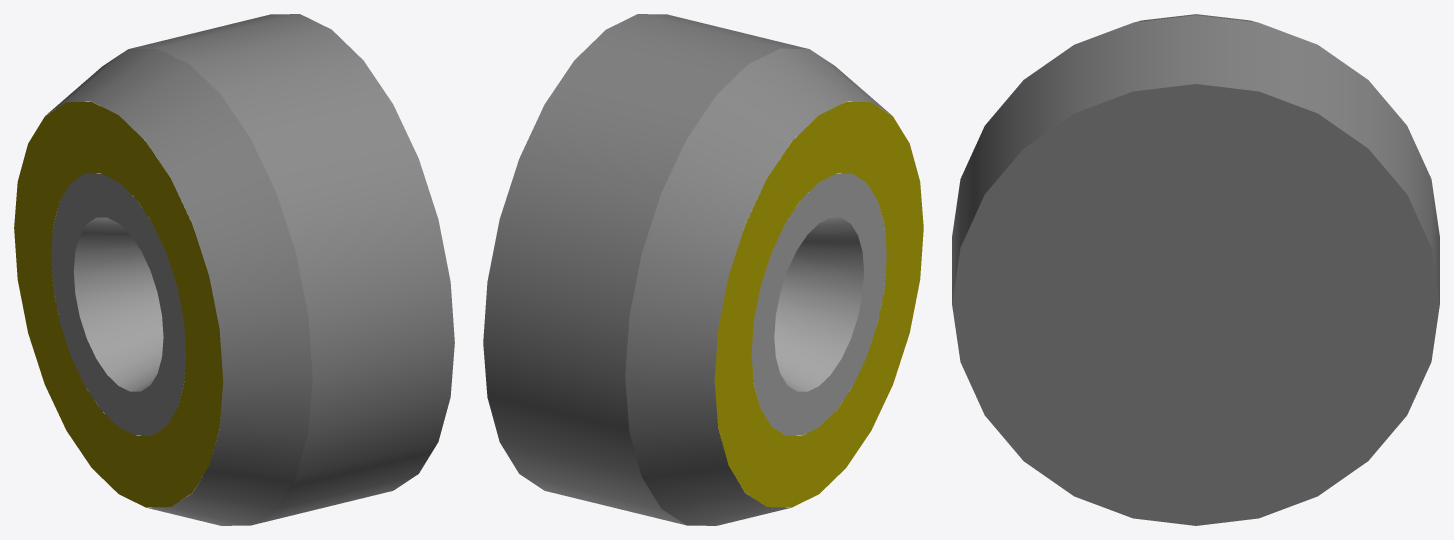
The model's file is Wheel.glb.
3 views of the same model, side by side, from view 1: azimuth 30°, elevation 25°; view 2: azimuth 150°, elevation 25°; view 3: azimuth 270°, elevation 25° (orthographic).
Parts seen in each view (by area): view 1: wheel_frontRight.006; view 2: wheel_frontRight.006; view 3: wheel_frontRight.006.
Boxes of the visible parts, left/top/right/bottom form: wheel_frontRight.006: left=14, top=14, right=454, bottom=525; wheel_frontRight.006: left=483, top=14, right=923, bottom=525; wheel_frontRight.006: left=952, top=14, right=1439, bottom=525.
Size of the model in its own units: 0.3001 by 0.6 by 0.6.
